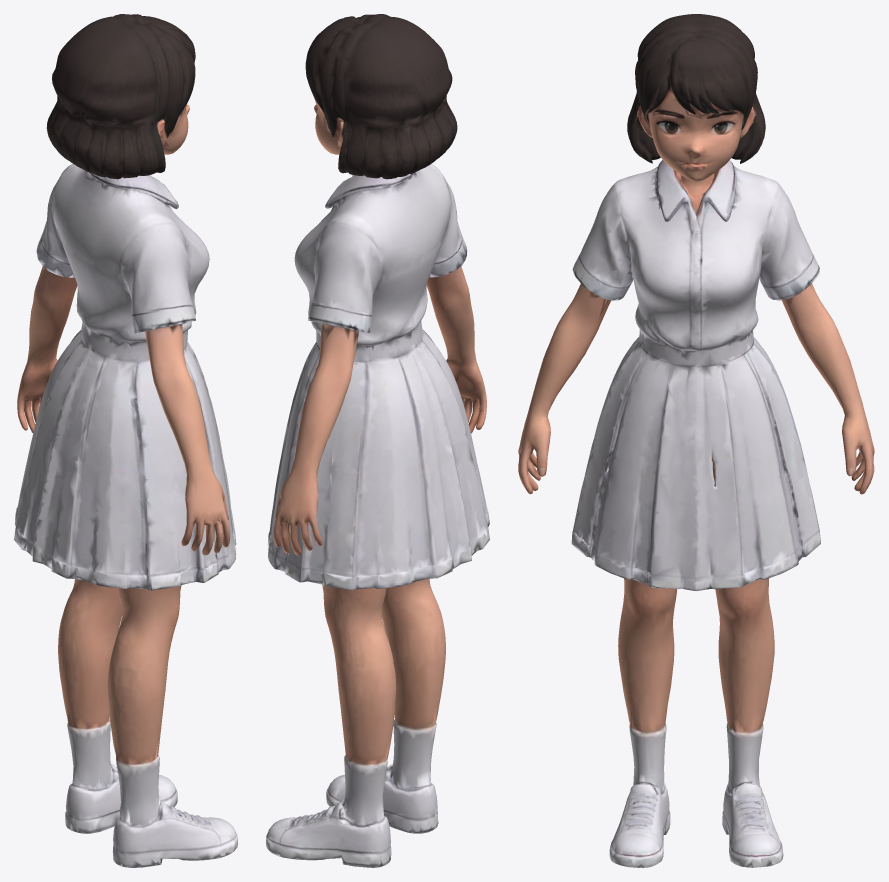
File: teen-girl.glb
3 renders of one model, left to right at view 1: azimuth 30°, elevation 25°; view 2: azimuth 150°, elevation 25°; view 3: azimuth 270°, elevation 25°, orthographic.
Visible parts, largest first — view 1: tripo_node_f3292c0f-f501-467c-ad3e-2c173c65b576; view 2: tripo_node_f3292c0f-f501-467c-ad3e-2c173c65b576; view 3: tripo_node_f3292c0f-f501-467c-ad3e-2c173c65b576.
Part boxes in pixels (left/top/right/bottom): tripo_node_f3292c0f-f501-467c-ad3e-2c173c65b576: left=14, top=14, right=237, bottom=867; tripo_node_f3292c0f-f501-467c-ad3e-2c173c65b576: left=266, top=14, right=489, bottom=867; tripo_node_f3292c0f-f501-467c-ad3e-2c173c65b576: left=518, top=14, right=874, bottom=867.
Bounding box in the file's own units: 0.2381 × 0.9999 × 0.3991.
1 material, 1 textured.
